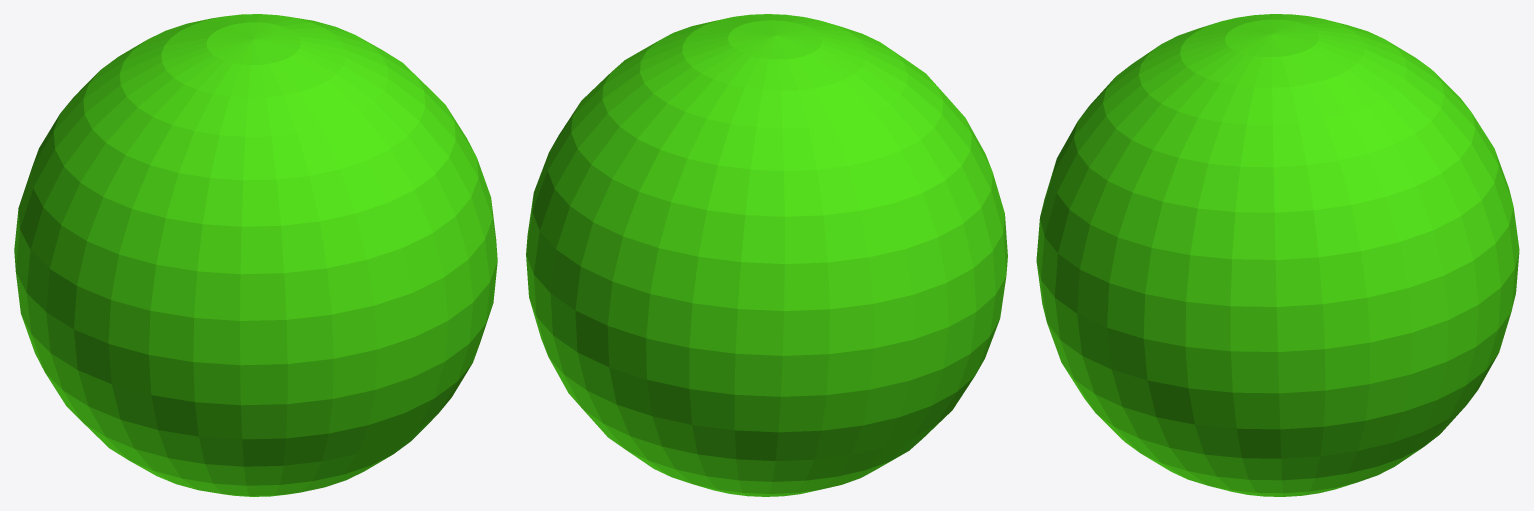
The model's file is ball.glb.
3 views of the same model, side by side, from view 1: azimuth 30°, elevation 25°; view 2: azimuth 150°, elevation 25°; view 3: azimuth 270°, elevation 25° (orthographic).
Visible parts, largest first — view 1: Esfera; view 2: Esfera; view 3: Esfera.
Part boxes in pixels (left/top/right/bottom): Esfera: left=14, top=14, right=497, bottom=496; Esfera: left=526, top=14, right=1007, bottom=496; Esfera: left=1036, top=14, right=1519, bottom=496.
Bounding box in the file's own units: 2 × 2 × 2.
